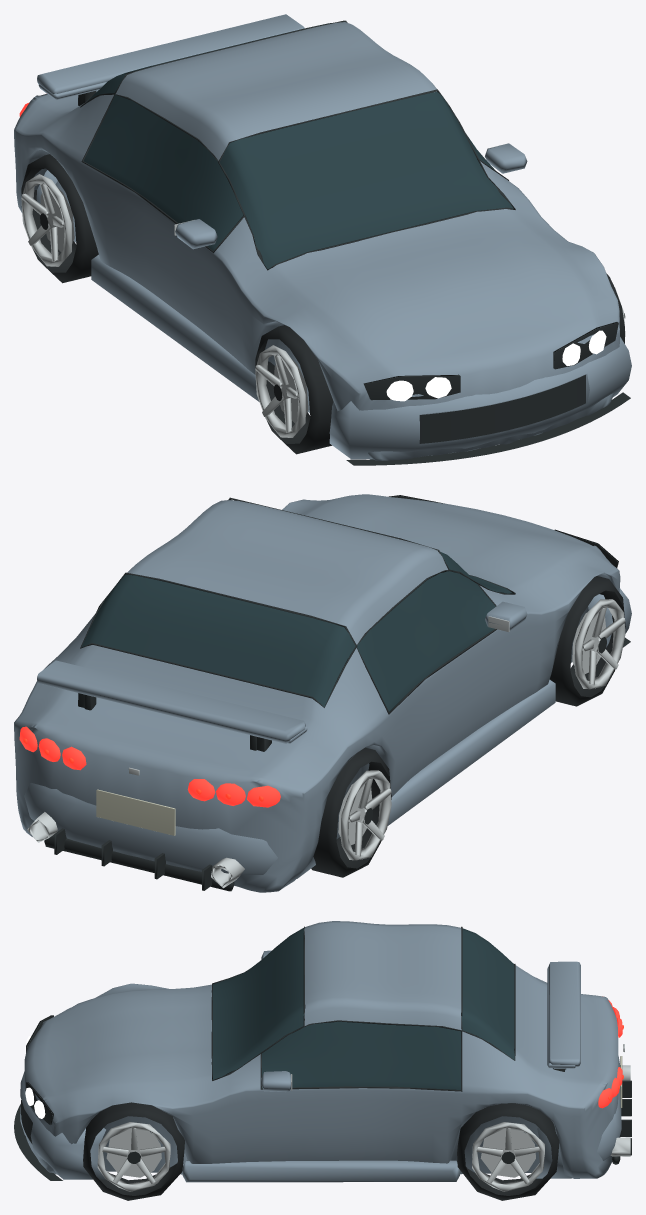
The model's file is orvane-auvra.glb.
3 renders of one model, top to bottom at view 1: azimuth 30°, elevation 25°; view 2: azimuth 150°, elevation 25°; view 3: azimuth 270°, elevation 25°, orthographic. The views are drawn at different scales.
Parts seen in each view (by area): view 1: cofano, cristallo_ant, scocca, tetto, porta_sx, cristallo_sx, paraurti_ant, spoiler, griglia, minigonna_sx, ruota_ant_sx_gomma, ruota_post_sx_gomma (+16 smaller); view 2: scocca, tetto, portellone, cristallo_post, cofano, porta_sx, cristallo_sx, paraurti_post, spoiler, minigonna_sx, ruota_post_sx_gomma, ruota_ant_sx_gomma (+14 smaller); view 3: scocca, tetto, cofano, porta_dx, cristallo_dx, cristallo_ant, portellone, minigonna_dx, cristallo_post, spoiler, ruota_post_dx_gomma, ruota_ant_dx_gomma (+13 smaller).
Part boxes in pixels (<box>): cofano: <box>268,209,598,369</box>; cristallo_ant: <box>219,92,513,269</box>; scocca: <box>14,94,619,460</box>; tetto: <box>115,22,436,160</box>; porta_sx: <box>82,163,228,351</box>; cristallo_sx: <box>83,94,243,250</box>; paraurti_ant: <box>329,337,631,459</box>; spoiler: <box>37,14,304,94</box>; griglia: <box>419,374,585,443</box>; minigonna_sx: <box>91,254,259,401</box>; ruota_ant_sx_gomma: <box>255,325,333,454</box>; ruota_post_sx_gomma: <box>21,154,98,283</box>; scocca: <box>14,497,620,892</box>; tetto: <box>127,500,448,644</box>; portellone: <box>28,645,324,784</box>; cristallo_post: <box>81,574,355,706</box>; cofano: <box>302,494,598,594</box>; porta_sx: <box>367,625,519,796</box>; cristallo_sx: <box>357,571,495,711</box>; paraurti_post: <box>24,783,315,878</box>; spoiler: <box>37,660,305,743</box>; minigonna_sx: <box>387,679,555,825</box>; ruota_post_sx_gomma: <box>311,747,391,877</box>; ruota_ant_sx_gomma: <box>549,576,625,706</box>; scocca: <box>24,977,618,1178</box>; tetto: <box>304,921,461,1030</box>; cofano: <box>46,984,211,1101</box>; porta_dx: <box>246,1088,461,1174</box>; cristallo_dx: <box>262,1021,460,1089</box>; cristallo_ant: <box>212,928,304,1079</box>; portellone: <box>515,965,618,1090</box>; minigonna_dx: <box>182,1160,459,1182</box>; cristallo_post: <box>462,928,514,1059</box>; spoiler: <box>548,961,580,1066</box>; ruota_post_dx_gomma: <box>457,1103,559,1200</box>; ruota_ant_dx_gomma: <box>83,1102,184,1200</box>.
Size of the model in its own units: 2.04 by 1.31 by 4.05.
